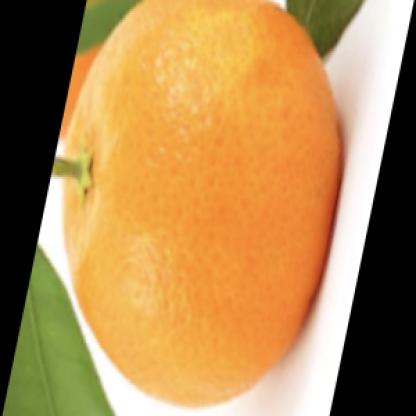fresh: (61, 3, 339, 406)
